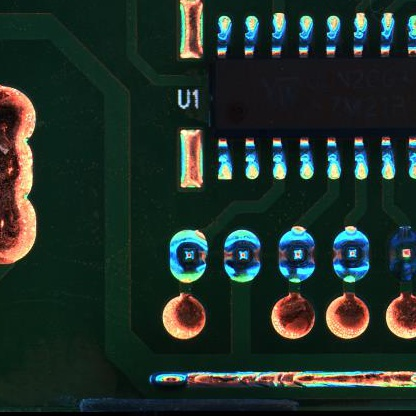spot: (330, 225, 370, 283), (169, 228, 209, 284), (278, 225, 315, 285), (223, 229, 261, 283), (387, 224, 416, 283)
